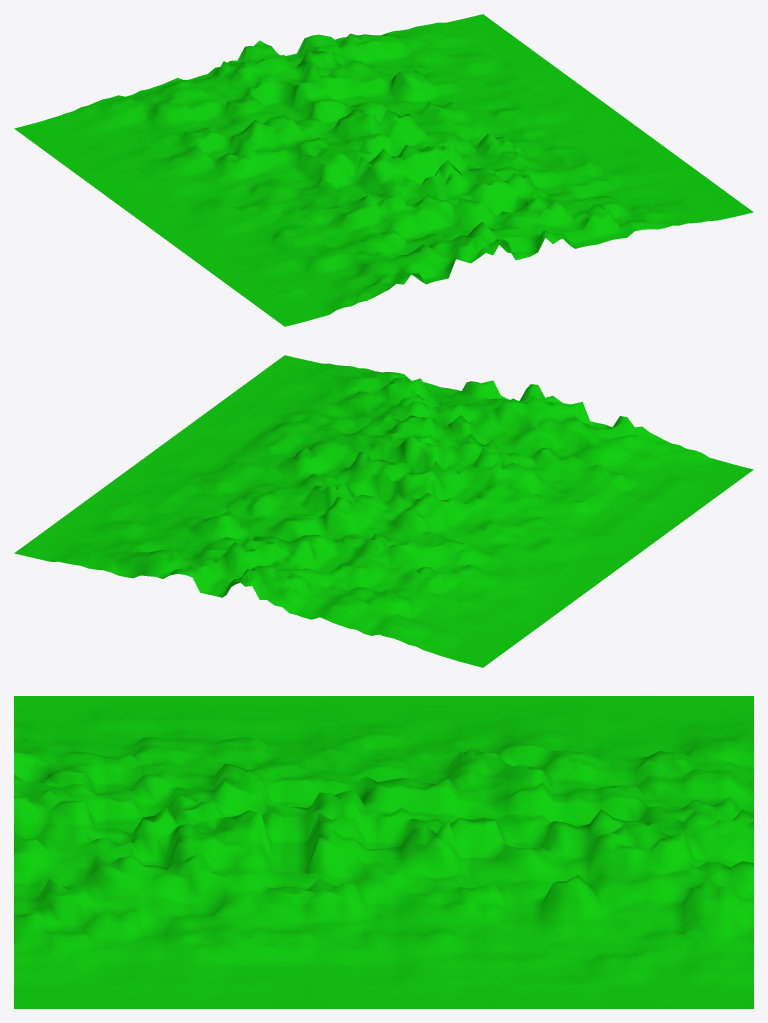
Rendered from finalGround.obj.
The picture shows the model from 3 angles, top to bottom: view 1: azimuth 30°, elevation 25°; view 2: azimuth 150°, elevation 25°; view 3: azimuth 270°, elevation 25°; orthographic projection. The views are drawn at different scales.
Parts seen in each view (by area): view 1: Landscape; view 2: Landscape; view 3: Landscape.
Part boxes in pixels (x1,y1,x2,y2): Landscape: (14, 14, 753, 326); Landscape: (14, 355, 753, 667); Landscape: (14, 696, 753, 1008).
Bounding box in the file's own units: 16 × 1.26 × 16.
